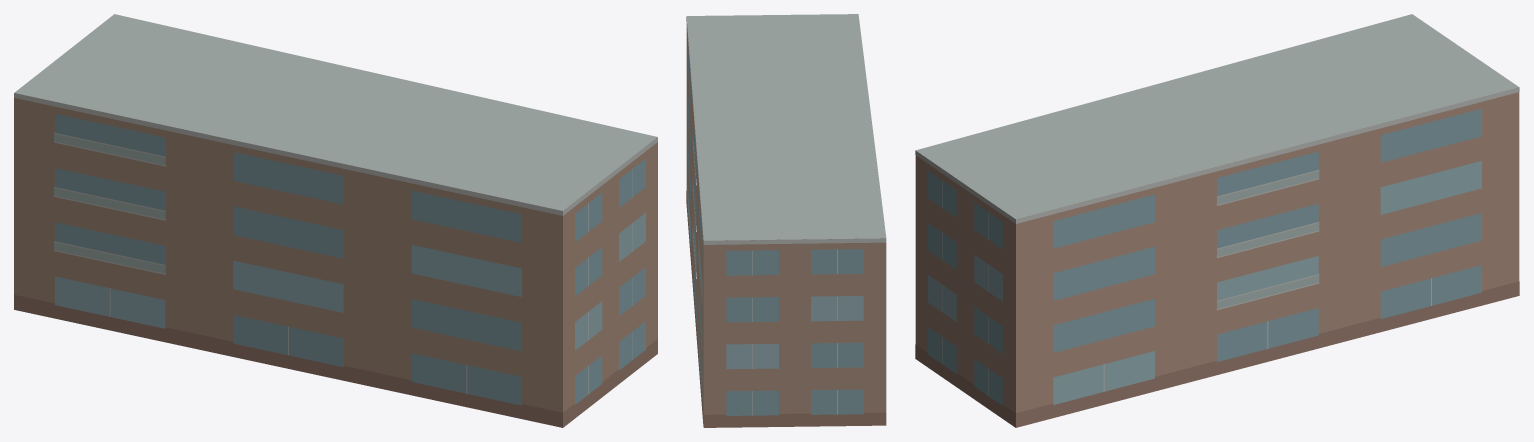
The model's file is survey-upis-33010198.glb.
3 views of the same model, side by side, from view 1: azimuth 30°, elevation 25°; view 2: azimuth 150°, elevation 25°; view 3: azimuth 270°, elevation 25° (orthographic). The views are drawn at different scales.
Visible parts, largest first — view 1: survey-upis-33010198.tmp; view 2: survey-upis-33010198.tmp; view 3: survey-upis-33010198.tmp.
Boxes of the visible parts, left/top/right/bottom form: survey-upis-33010198.tmp: left=14, top=14, right=657, bottom=427; survey-upis-33010198.tmp: left=686, top=14, right=886, bottom=427; survey-upis-33010198.tmp: left=915, top=14, right=1519, bottom=427.
Bounding box in the file's own units: 22.82 × 10.8 × 28.36.
